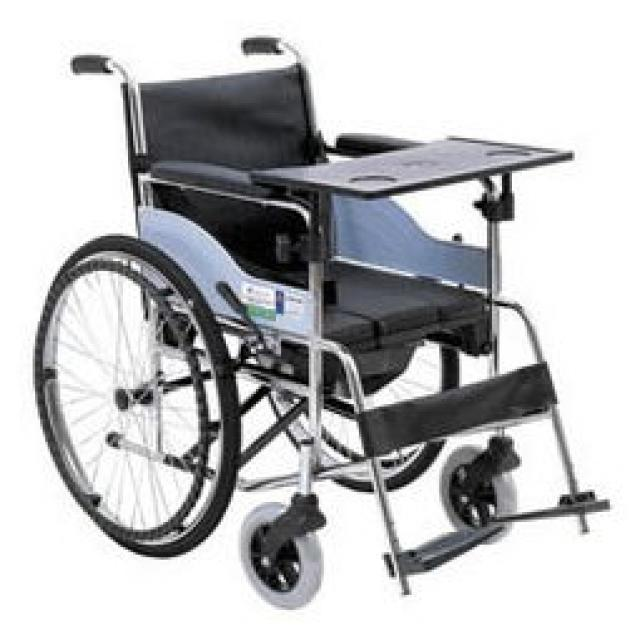wheelchair: (22, 25, 638, 612)
